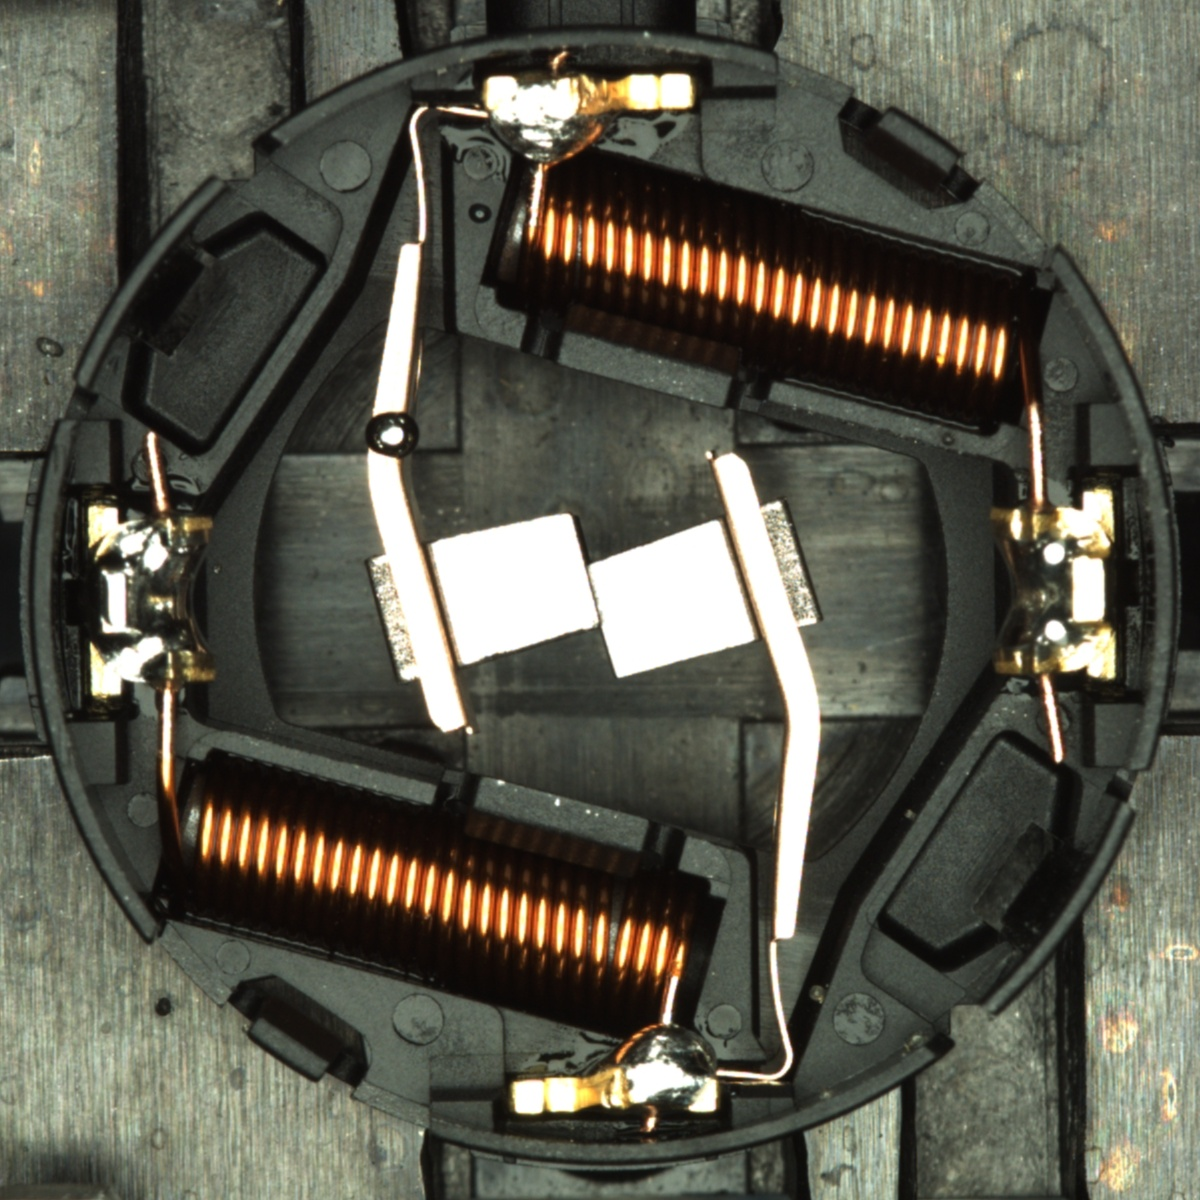1: (251, 32, 480, 256), (710, 930, 939, 1154)
2: (710, 32, 939, 256), (251, 930, 480, 1154)
3: (22, 256, 251, 481), (939, 705, 1168, 930)
4: (710, 705, 939, 930)
5: (480, 144, 710, 369), (480, 817, 710, 1042)
6: (710, 256, 939, 481), (251, 705, 480, 930)
7: (939, 256, 1168, 481), (22, 705, 251, 930)
cacbon: (388, 500, 802, 686)
chau_dien: (80, 498, 221, 700), (983, 488, 1123, 687)
hat_chi: (364, 411, 420, 460)
tay_choi: (482, 70, 699, 171), (508, 1020, 723, 1118)
thanh_de: (954, 787, 1142, 1031), (59, 165, 245, 405)
